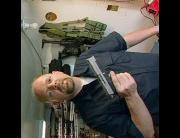gun: (87, 55, 136, 96)
